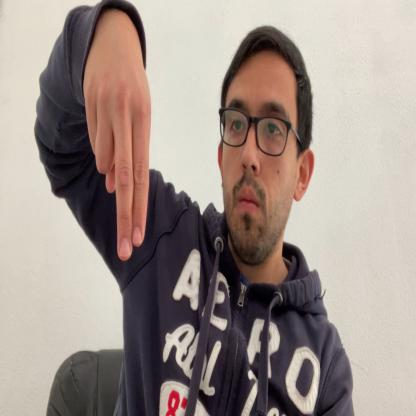N: (84, 25, 152, 261)
